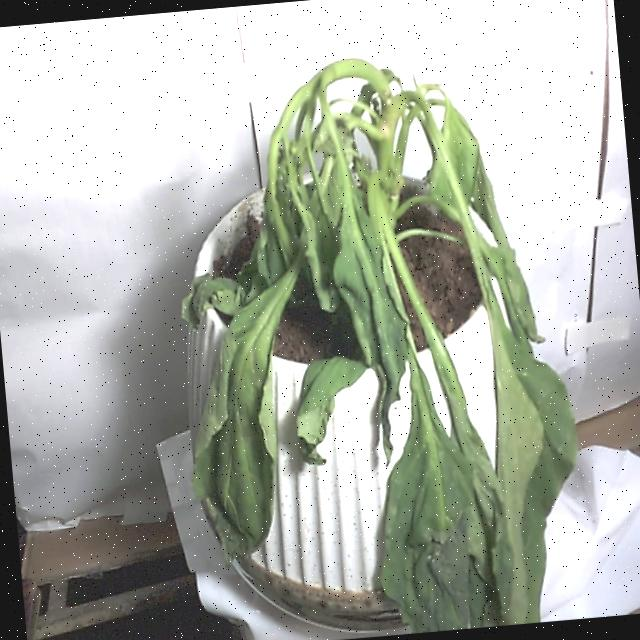Leaf: (480, 331, 590, 625), (360, 375, 482, 636), (180, 302, 291, 569)
